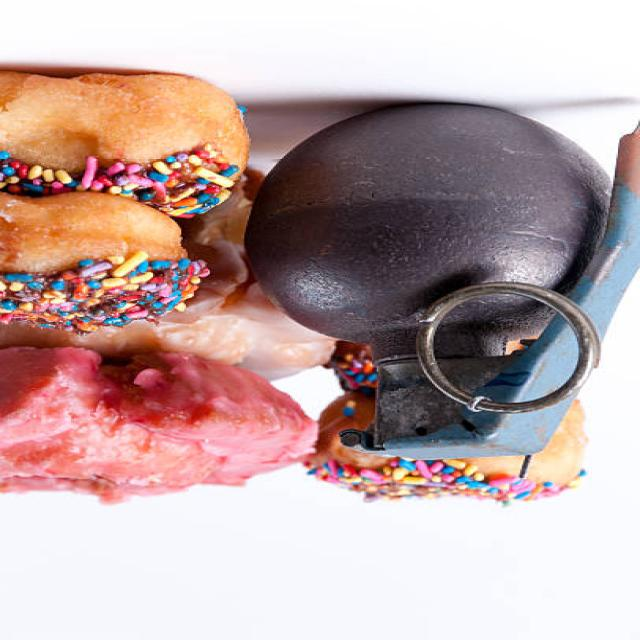grenade: (231, 97, 640, 463)
